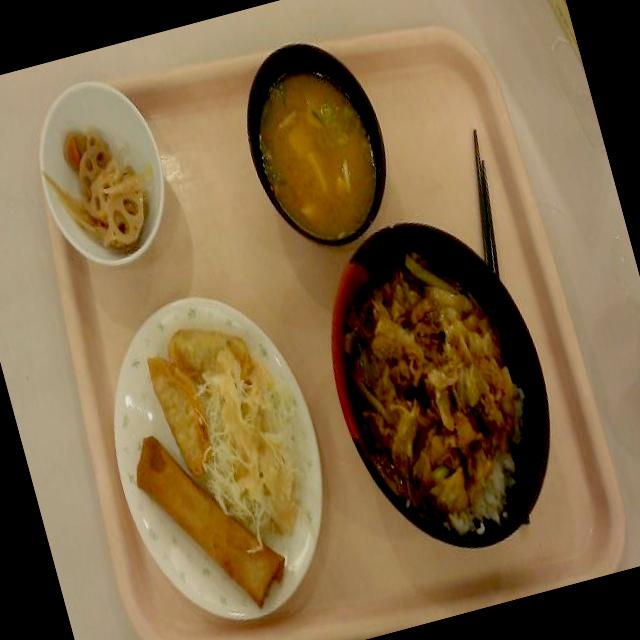Green Salad: (190, 369, 310, 504)
